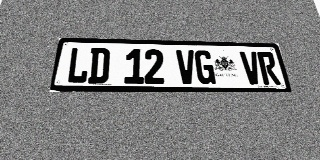1: (124, 48, 144, 84)
2: (145, 49, 164, 84)
D: (87, 48, 110, 84)
G: (194, 50, 216, 84)
L: (66, 47, 90, 84)
R: (256, 51, 281, 85)
V: (239, 51, 263, 84), (176, 50, 197, 84)
